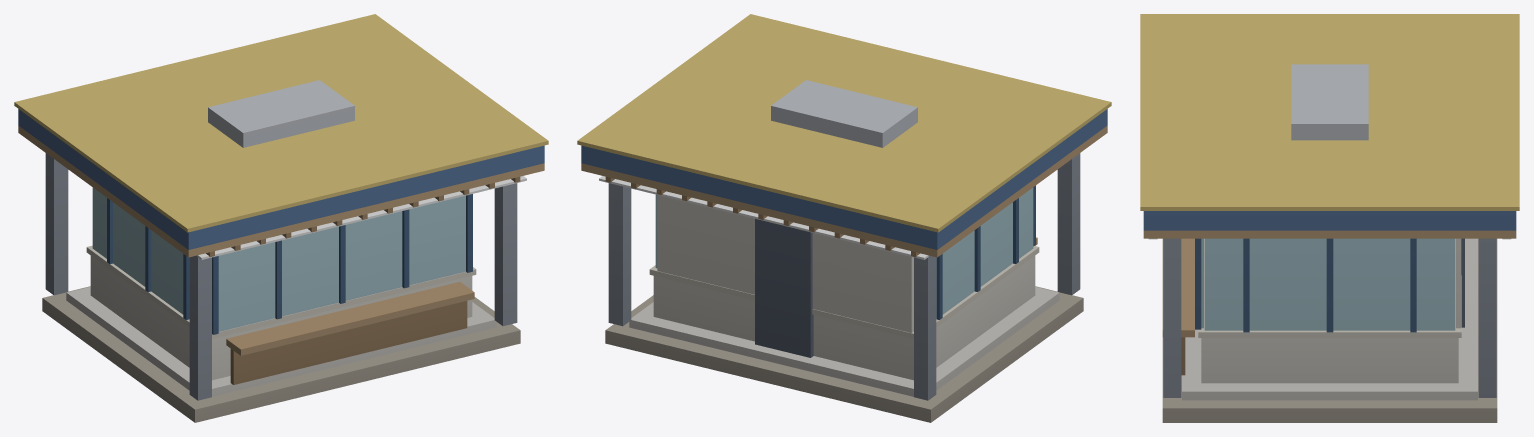
The model's file is gate_pavilion.glb.
3 views of the same model, side by side, from view 1: azimuth 30°, elevation 25°; view 2: azimuth 150°, elevation 25°; view 3: azimuth 270°, elevation 25° (orthographic). The views are drawn at different scales.
Parts seen in each view (by area): view 1: gate_pavilion; view 2: gate_pavilion; view 3: gate_pavilion.
Boxes of the visible parts, x1=… form: gate_pavilion: x1=14, y1=14, x2=548, y2=422; gate_pavilion: x1=577, y1=14, x2=1111, y2=422; gate_pavilion: x1=1140, y1=14, x2=1519, y2=422.
Size of the model in its own units: 8.16 by 4.77 by 6.78.
